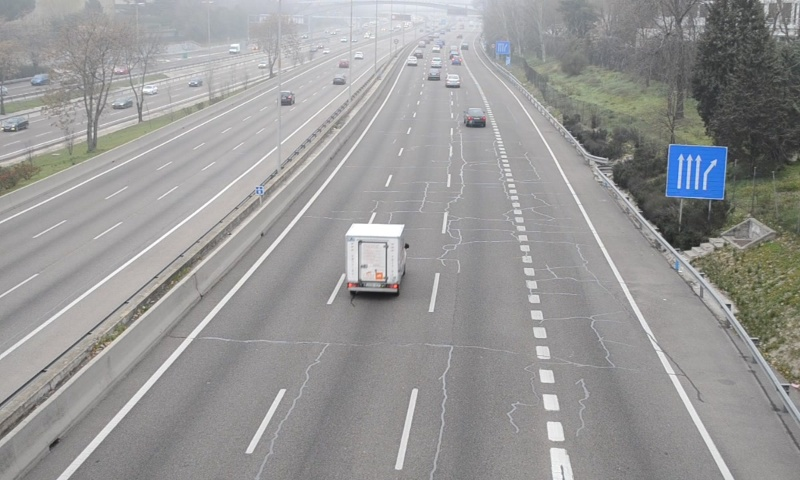car: (464, 106, 487, 126)
small-truck: (346, 224, 408, 293)
